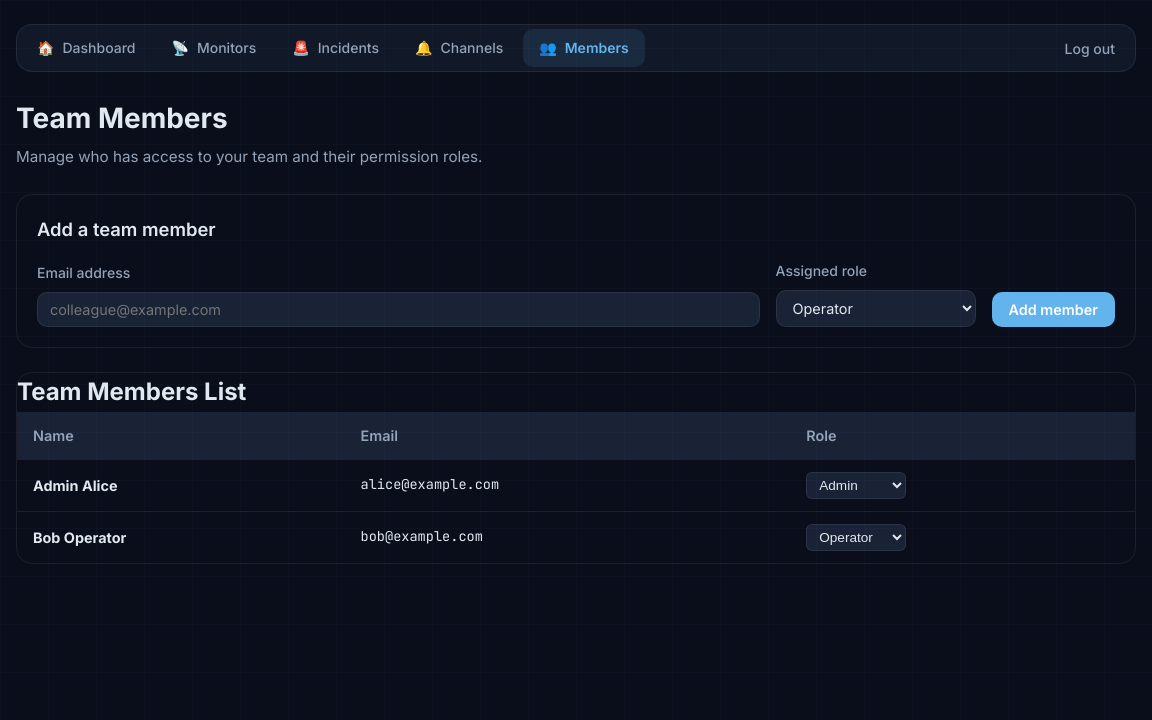
Test: MembersPage (US-19) › demoting the last admin shows the API 409 message and changes nothing on screen
Attempt demoting the last admin to operator
Select "Operator" in the dropdown with test id "role-select-u-1" at (856, 485), box [806, 472, 906, 499]
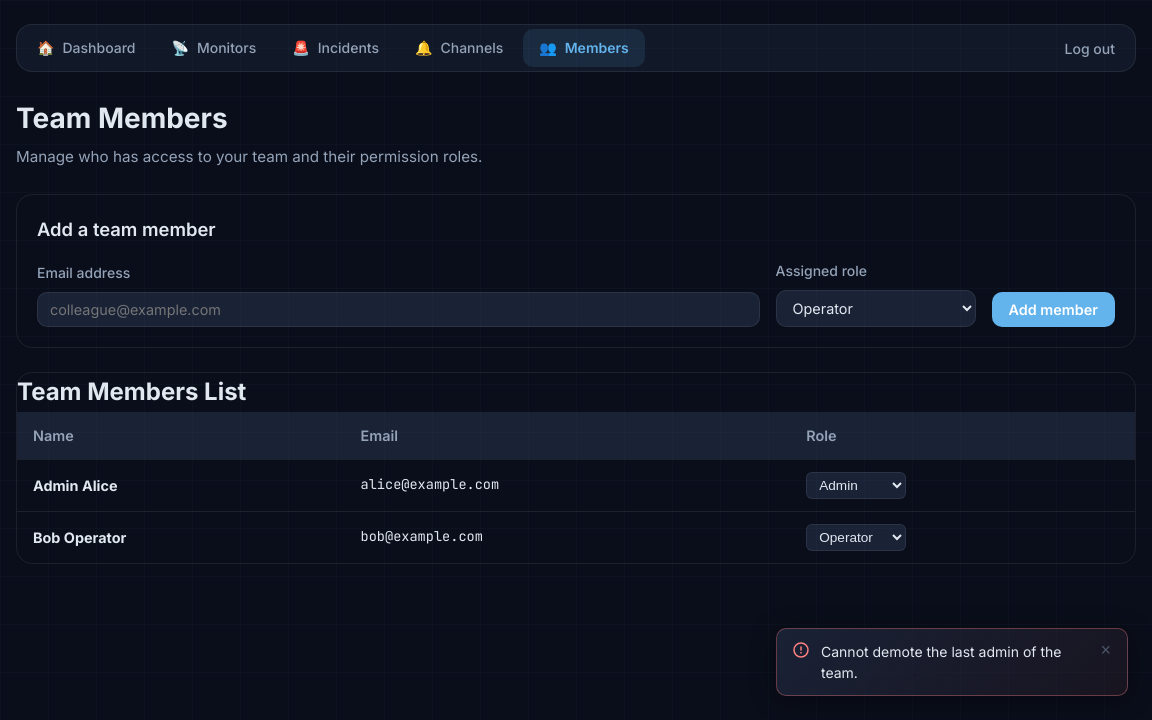
Now the text "Cannot demote the last admin of the team." is shown, box [821, 641, 1088, 683]
